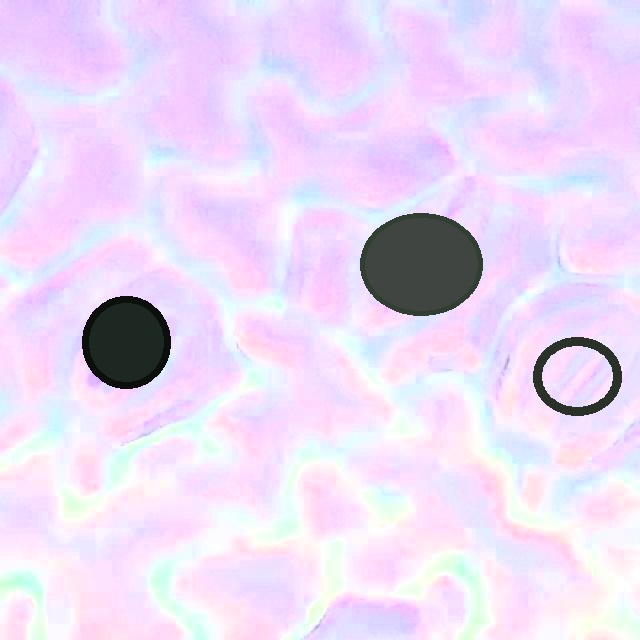open: (360, 213, 482, 316), (82, 296, 169, 387), (532, 335, 622, 416)
